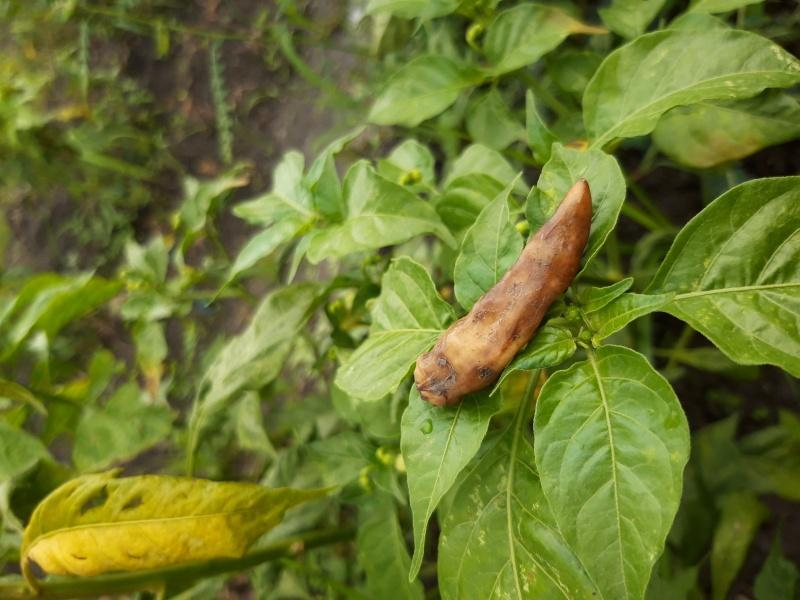lalat_buah: (412, 176, 592, 405)
